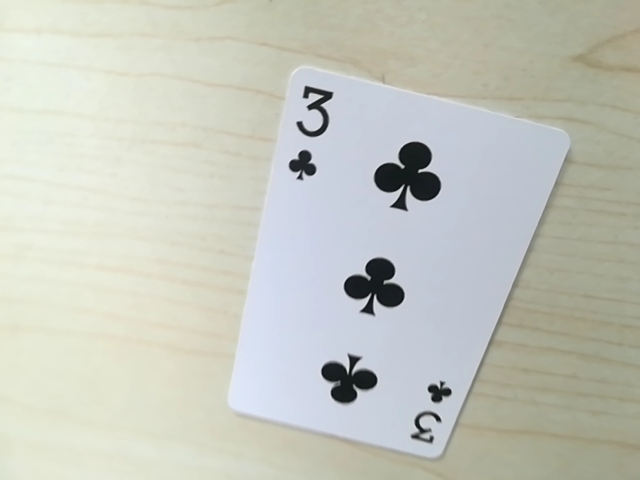mh 3: (279, 74, 341, 188), (404, 376, 452, 457)
